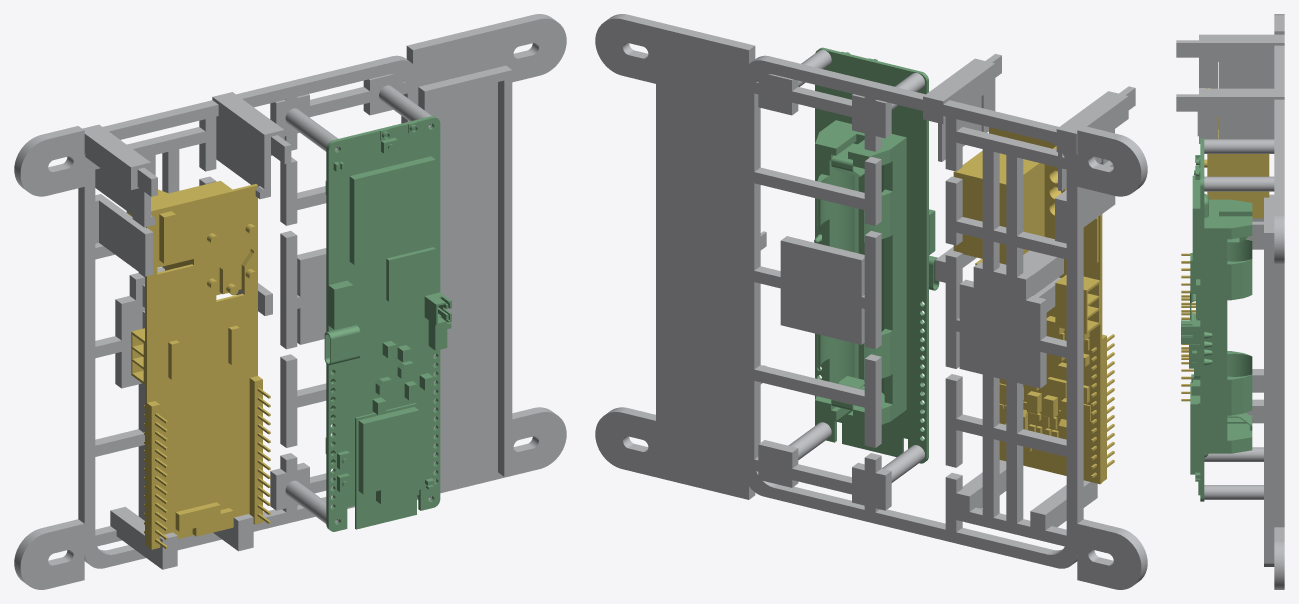
Rendered from lilygo_a7670_simhat_assembly.glb.
3 renders of one model, left to right at view 1: azimuth 30°, elevation 25°; view 2: azimuth 150°, elevation 25°; view 3: azimuth 270°, elevation 25°, orthographic. The views are drawn at different scales.
Visible parts, largest first — view 1: carrier_ref, board_ref, simhat_ref; view 2: carrier_ref, board_ref, simhat_ref; view 3: carrier_ref, board_ref, simhat_ref.
Part boxes in pixels (x1,y1,x2,y2): carrier_ref: (14,14,566,589); board_ref: (324,116,451,531); simhat_ref: (126,181,270,549); carrier_ref: (595,14,1147,589); board_ref: (814,47,939,463); simhat_ref: (953,127,1114,484); carrier_ref: (1176,14,1284,589); board_ref: (1181,138,1252,501); simhat_ref: (1181,88,1269,401).
Bounding box in the file's own units: 162 × 128 × 33.65.
